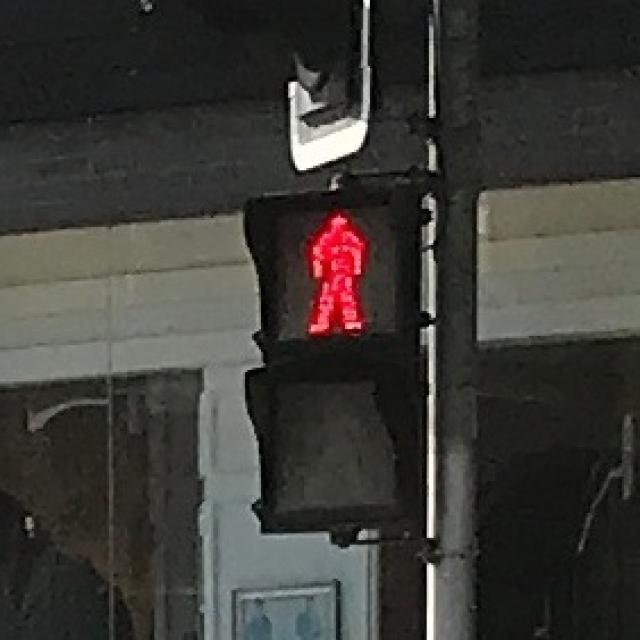red-crossing: (268, 204, 395, 340)
